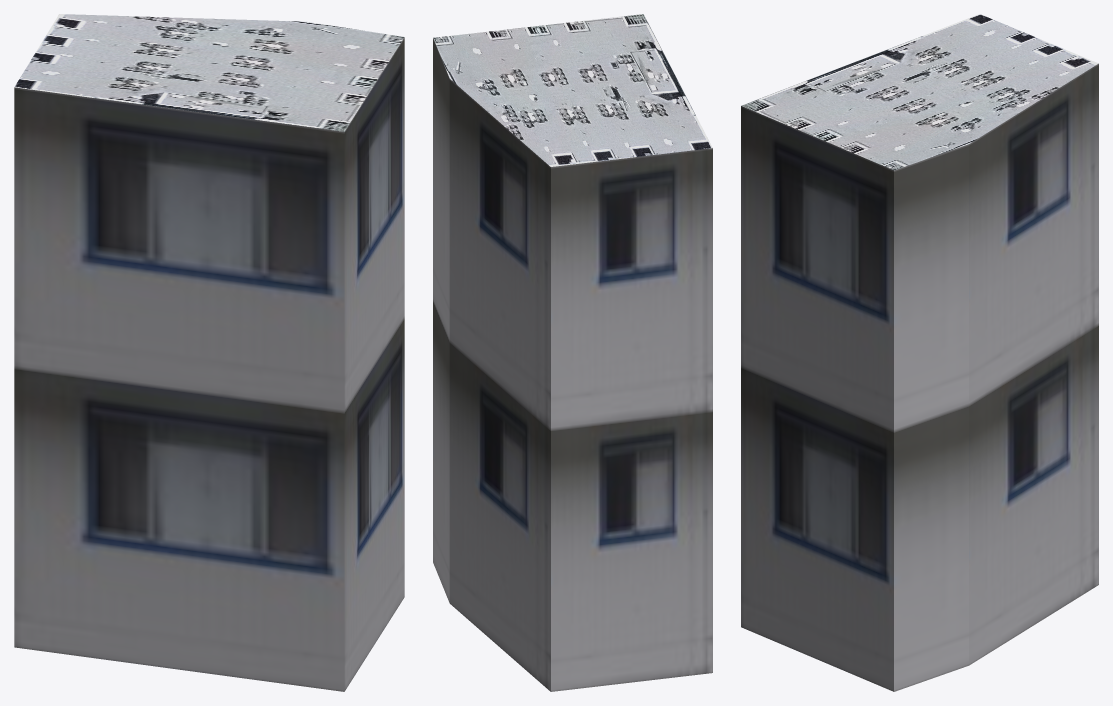
Rendered from ResTex__3114.fbx.
3 renders of one model, left to right at view 1: azimuth 30°, elevation 25°; view 2: azimuth 150°, elevation 25°; view 3: azimuth 270°, elevation 25°, orthographic. The views are drawn at different scales.
Visible parts, largest first — view 1: CityEngineMaterial_9_m, CityEngineMaterial_4_m; view 2: CityEngineMaterial_9_m, CityEngineMaterial_4_m; view 3: CityEngineMaterial_9_m, CityEngineMaterial_4_m.
Part boxes in pixels (x1=…): CityEngineMaterial_9_m: x1=14, y1=37, x2=404, y2=691; CityEngineMaterial_4_m: x1=14, y1=14, x2=404, y2=131; CityEngineMaterial_9_m: x1=433, y1=38, x2=712, y2=691; CityEngineMaterial_4_m: x1=433, y1=14, x2=712, y2=166; CityEngineMaterial_9_m: x1=741, y1=63, x2=1098, y2=691; CityEngineMaterial_4_m: x1=741, y1=14, x2=1098, y2=170.
Size of the model in its own units: 3.86 by 6 by 3.73.
Materials: 2 (2 with a texture image).
